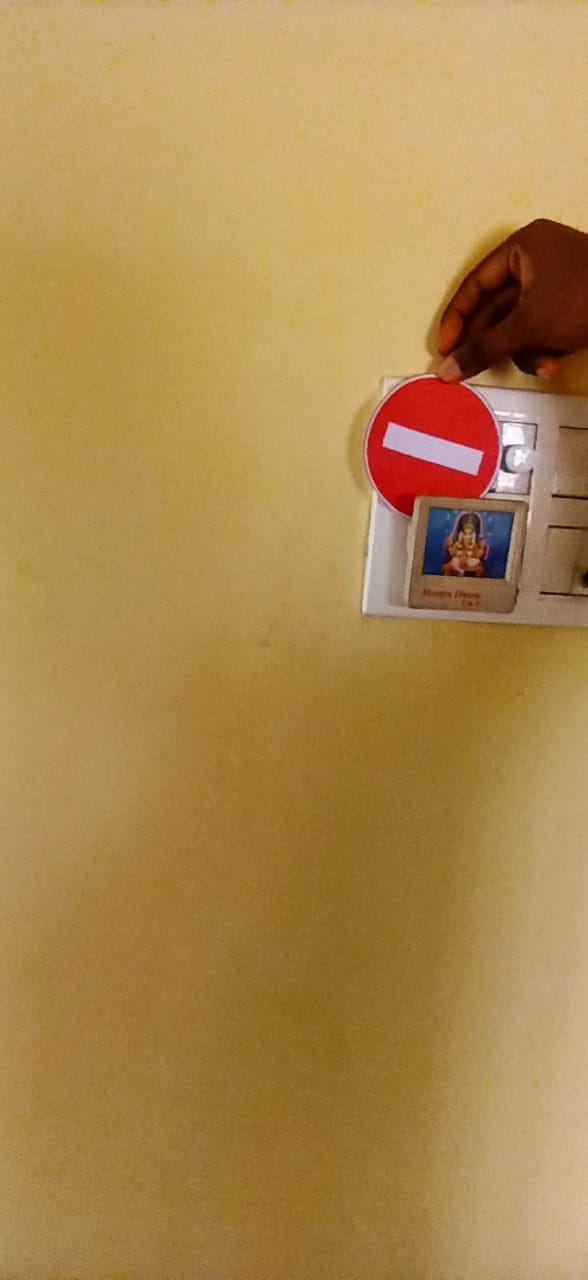NO ENTRY: (338, 360, 508, 508)
